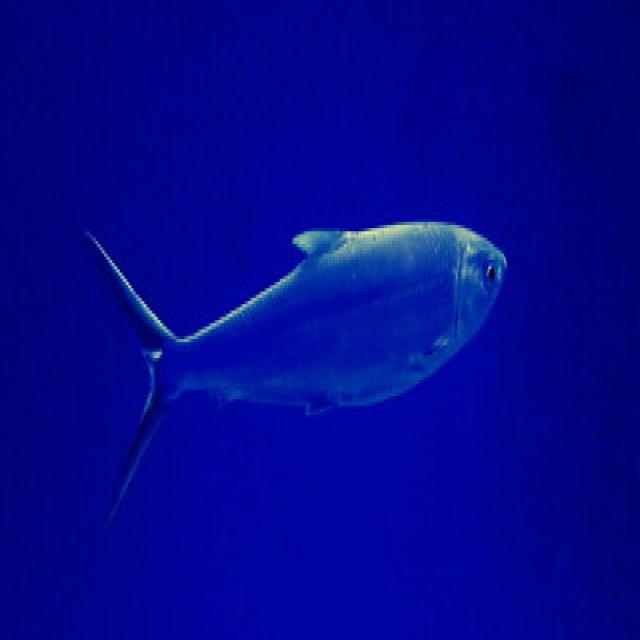Bangus: (77, 186, 520, 524)
